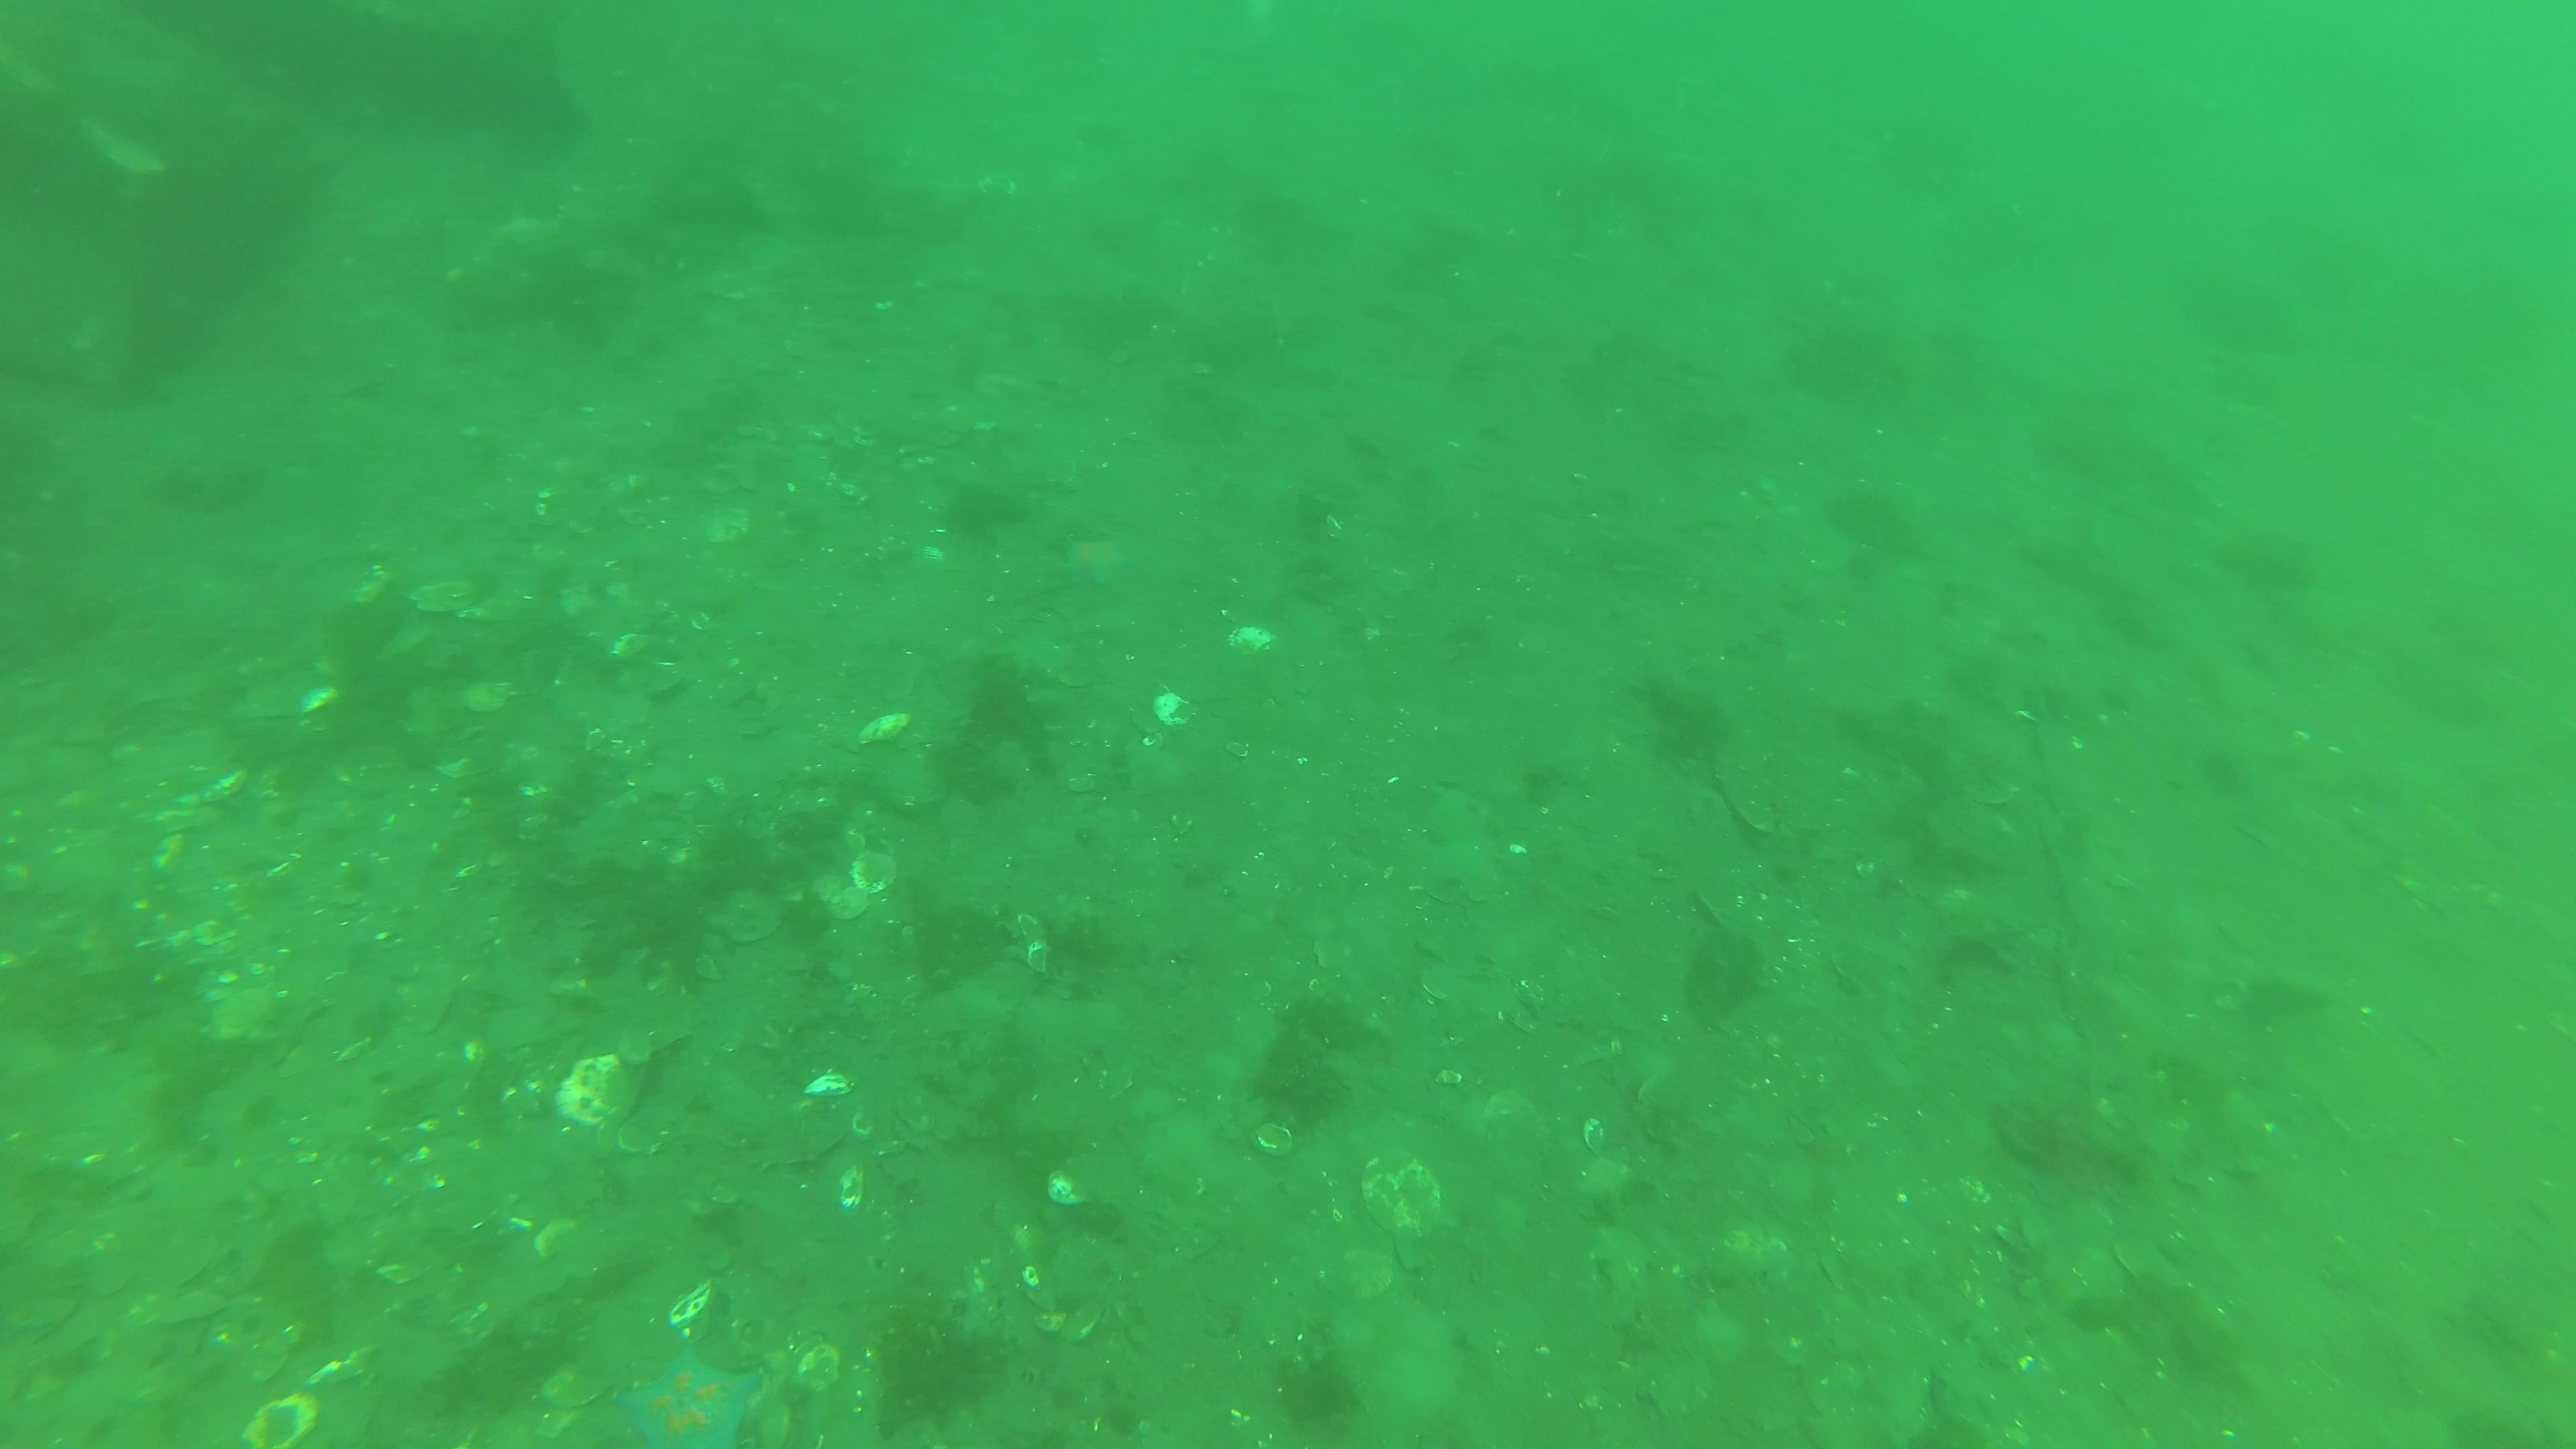starfish: (610, 1345, 773, 1449)
